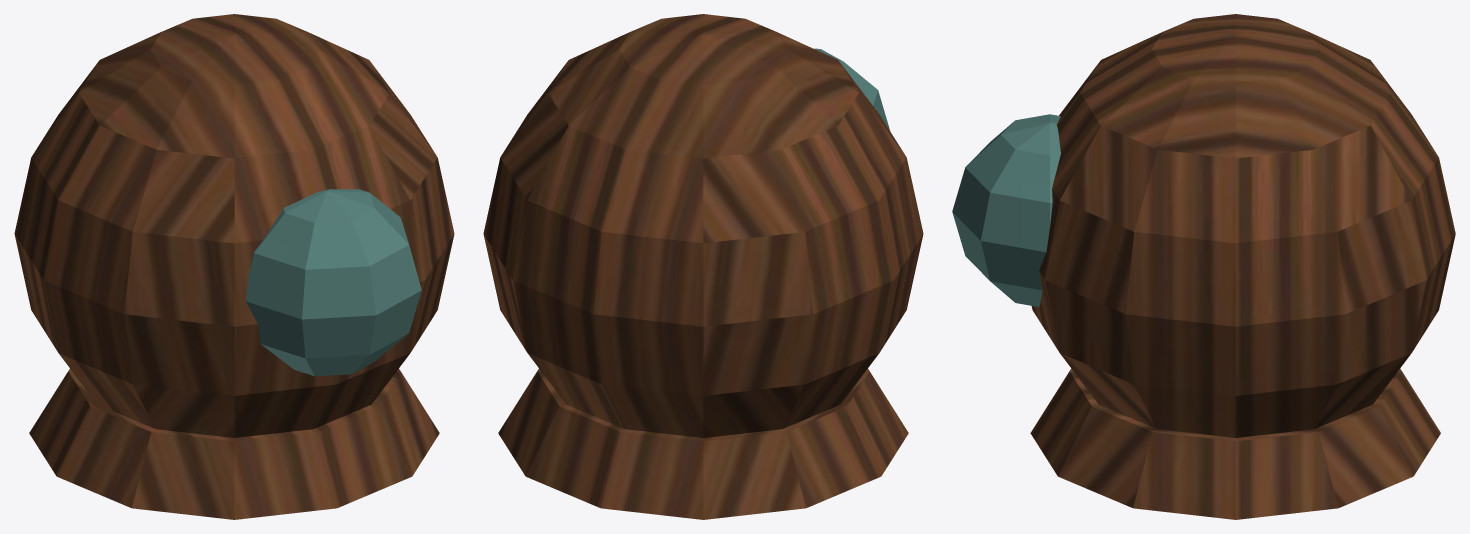
Rendered from diving_helmet_01.glb.
The picture shows the model from 3 angles, left to right: view 1: azimuth 30°, elevation 25°; view 2: azimuth 150°, elevation 25°; view 3: azimuth 270°, elevation 25°; orthographic projection.
Parts seen in each view (by area): view 1: diving_helmet_01; view 2: diving_helmet_01; view 3: diving_helmet_01.
Boxes of the visible parts, x1,y1,x2,y2 form: diving_helmet_01: (14, 14, 454, 519); diving_helmet_01: (483, 14, 923, 519); diving_helmet_01: (952, 14, 1455, 519).
Bounding box in the file's own units: 0.9 × 0.9 × 1.03.
Materials: 2 (2 with a texture image).
